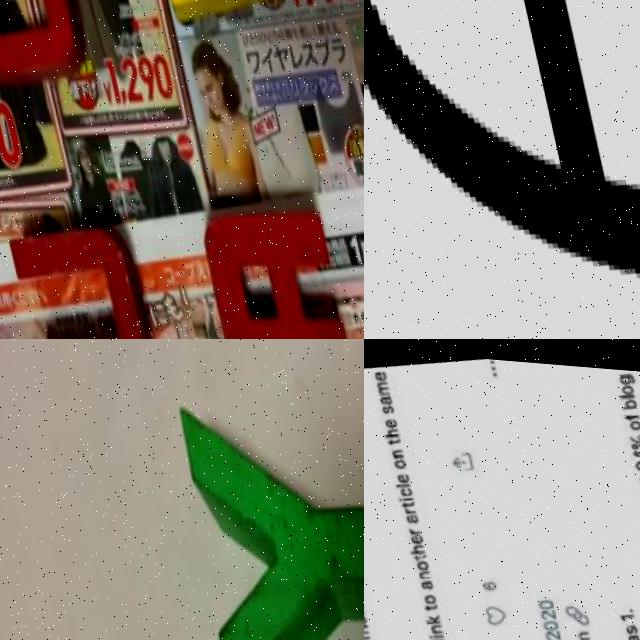0: (533, 593, 550, 604), (539, 615, 554, 626)
1: (615, 606, 631, 615)
2: (540, 624, 557, 638), (535, 603, 552, 614)
4: (630, 440, 640, 453)
6: (478, 575, 494, 588)
9: (633, 451, 640, 464)
A: (187, 179, 345, 339)
E: (364, 0, 640, 277)
O: (0, 0, 86, 88)
U: (0, 206, 154, 339)
Y: (167, 370, 364, 640)
